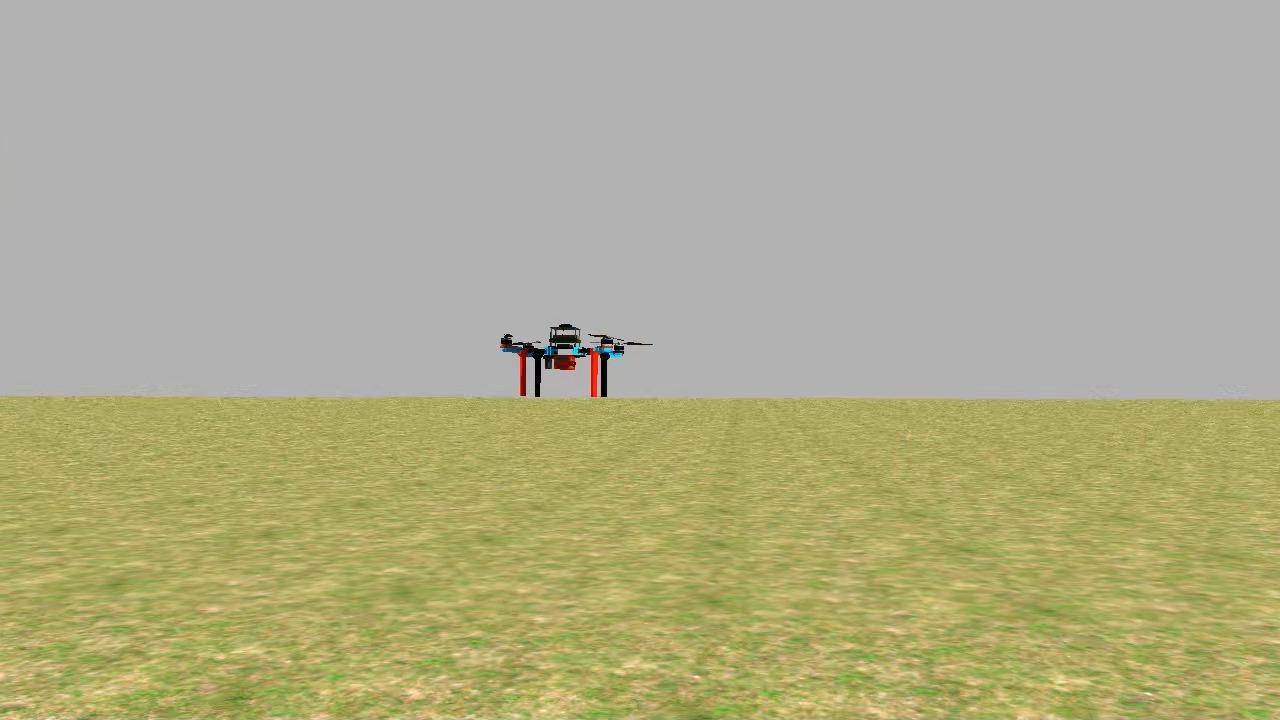UAV: (494, 319, 630, 403)
